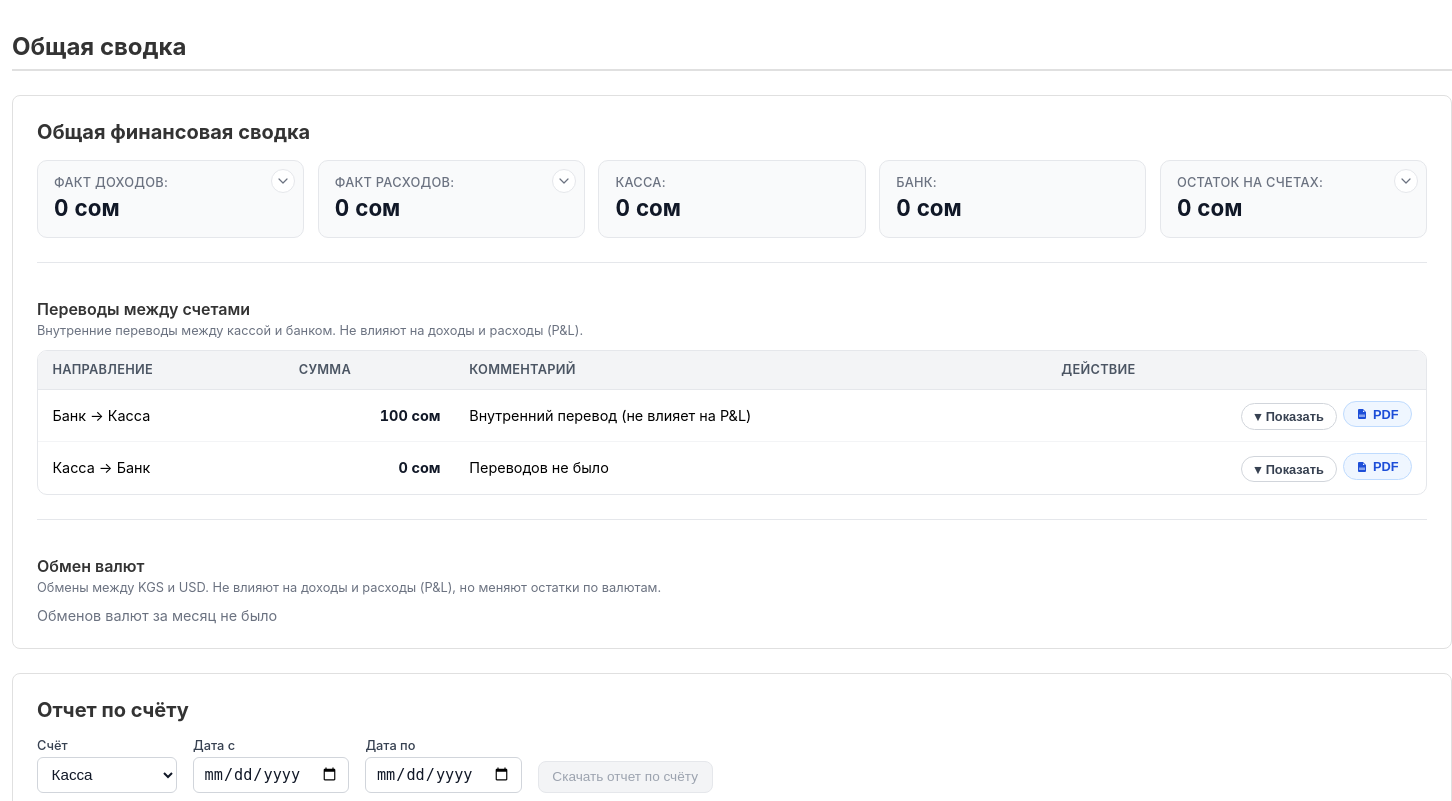
Test: GlobalSummary section PDF export › expands transfer details per direction and shows empty state
The width and height of the screenshot is (1452, 801).
Expected: the text "Переводы между счетами" is shown, [37,299,250,319]
Click the button "▾ Показать" in the row of "Банк → Касса" at (1289, 417), box [1241,403,1337,430]
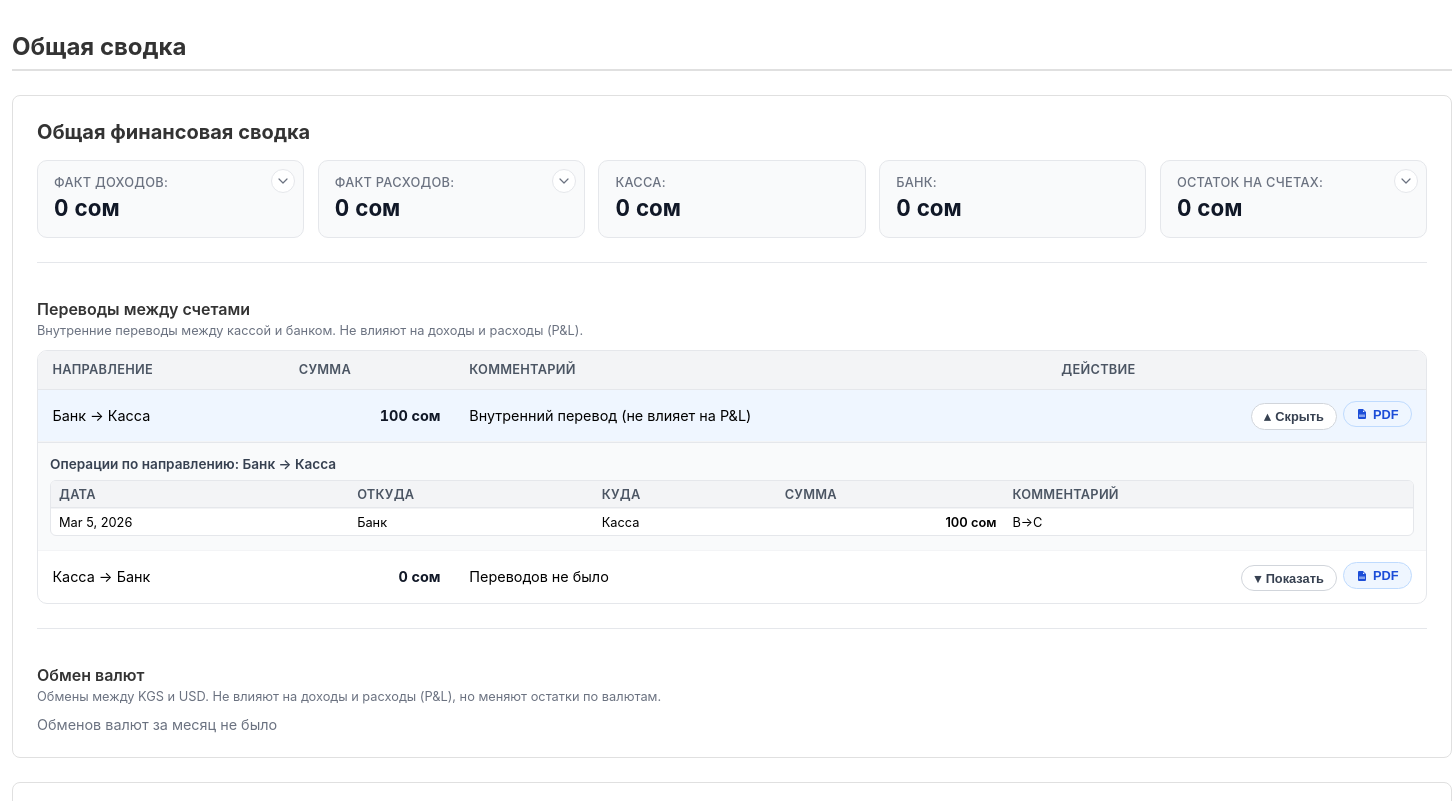
Expected: the text "Касса → Банк 0 сом Переводов не было ▾ Показать PDF" is shown, [38,550,1426,603]
Expected: the text "Операции по направлению" is shown, [50,456,242,472]
Expected: the text "B->C" is shown, [1004,508,1413,536]
Click the button "▾ Показать" at (1289, 578), box [1241,565,1337,591]
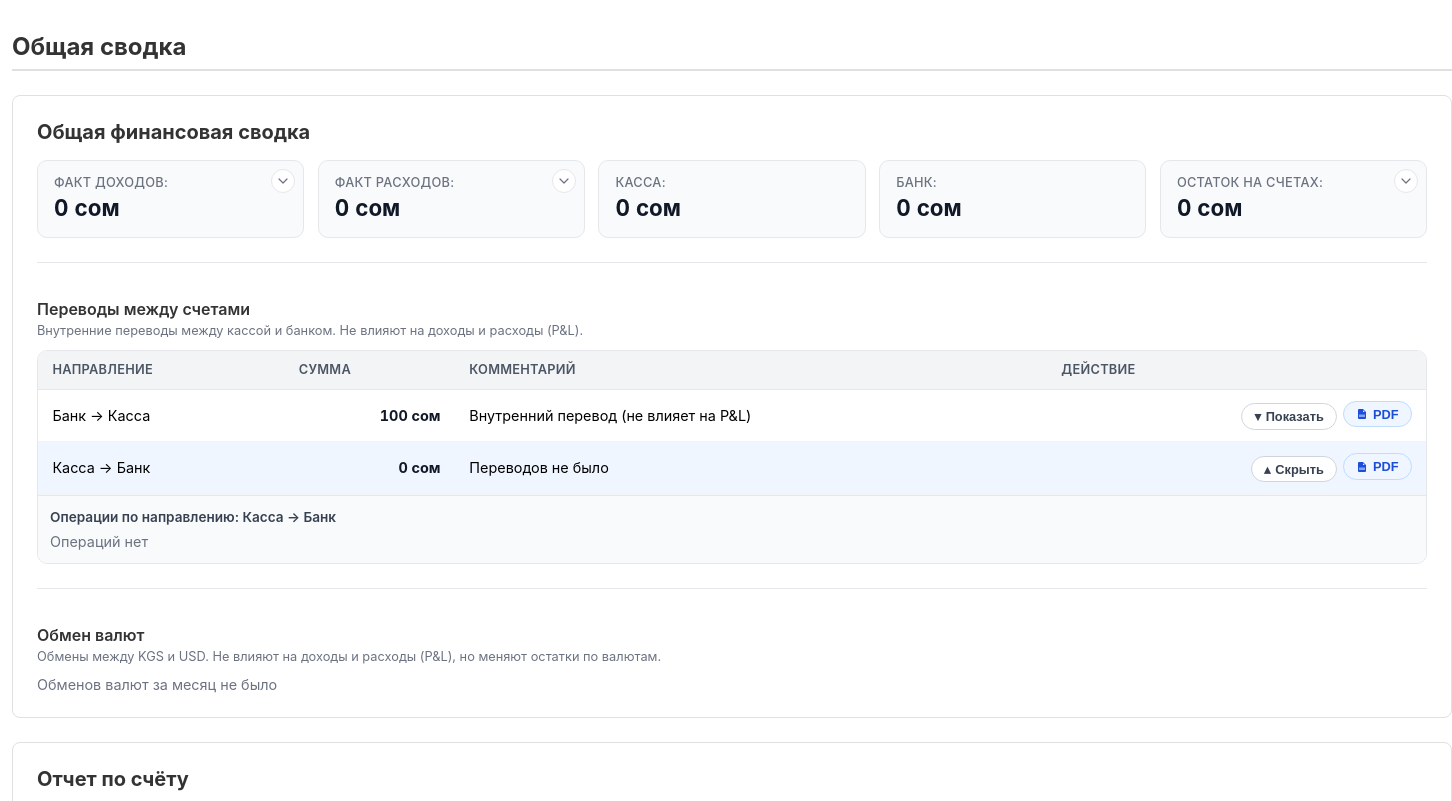
Expected: the text "Операций нет" is shown, [50,533,148,550]
